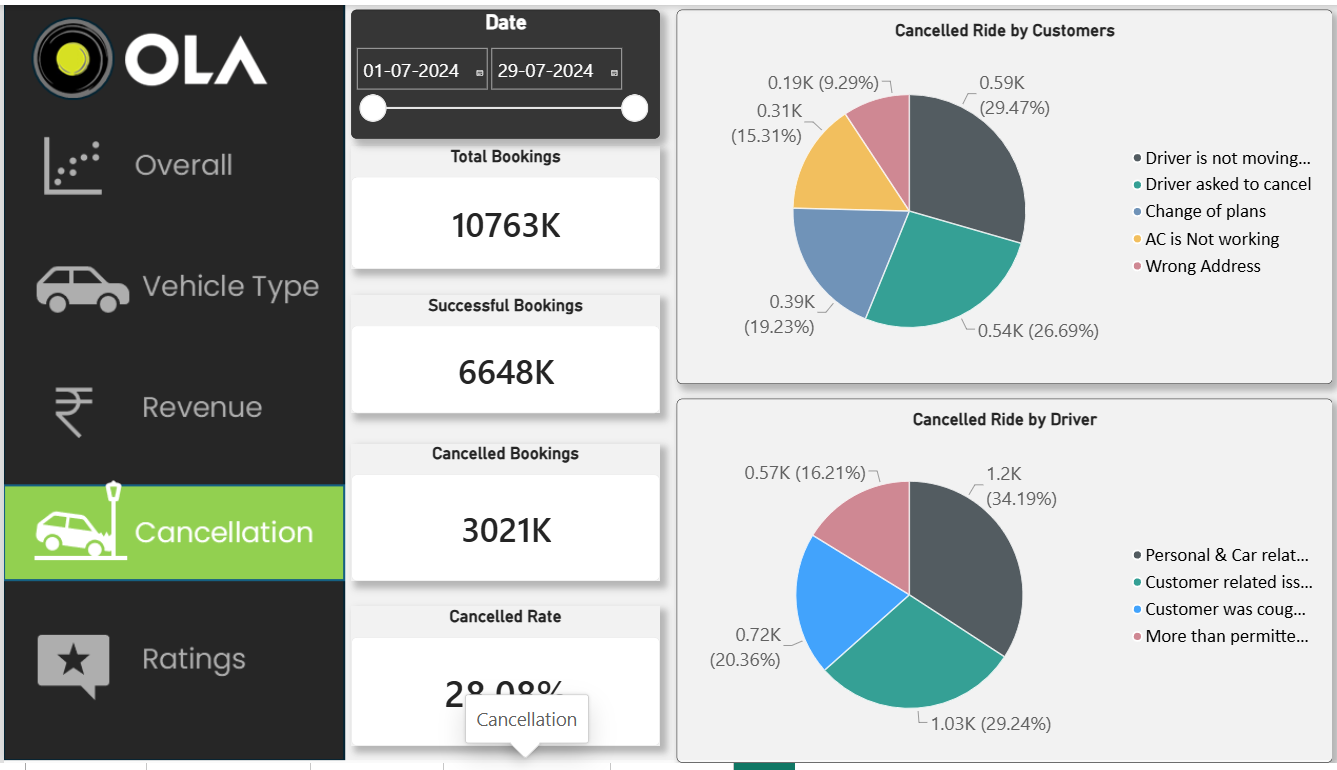

The page's visual inventory and layout, read from the dashboard file:
{"tool":"powerbi","page":{"name":"Cancellation","canvas":[1920,1080],"ordinal":3},"visuals":[{"type":"actionButton","box":[0,168.7,486,133.5],"z":0},{"type":"actionButton","box":[0,347.5,486,133.5],"z":1000},{"type":"actionButton","box":[10.1,516.3,486,133.5],"z":2000},{"type":"actionButton","box":[10.1,679.9,486,133.5],"z":3000},{"type":"pieChart","title":"Cancelled Ride by Customers","fields":{"Category":["bookings (2).Canceled_Rides_by_Customer"],"Y":["CountNonNull(bookings (2).Canceled_Rides_by_Customer)"]},"box":[958.8,6,934.7,533.7],"z":4000},{"type":"pieChart","title":"Cancelled Ride by Driver","fields":{"Category":["bookings (2).Canceled_Rides_by_Driver"],"Y":["CountNonNull(bookings (2).Canceled_Rides_by_Driver)"]},"box":[958.8,560.8,934.7,518.6],"z":5000},{"type":"slicer","title":"Date","fields":{"Values":["bookings (2).Date"]},"box":[494.5,6,440.2,183.9],"z":6000},{"type":"cardVisual","title":"Total Bookings","fields":{"Data":["Sum(bookings (2).Booking_Value)"]},"box":[494.5,202,440.2,174.9],"z":7000},{"type":"cardVisual","title":"Successful Bookings","fields":{"Data":["Sum(bookings (2).Booking_Value)"]},"box":[494.5,413.1,440.2,168.9],"z":8000},{"type":"cardVisual","title":"Cancelled Bookings","fields":{"Data":["Sum(bookings (2).Booking_Value)"]},"box":[494.5,624.2,440.2,196],"z":10000},{"type":"cardVisual","title":"Cancelled Rate","fields":{"Data":["bookings (2).CancelledPercentage"]},"box":[494.5,856.3,440.2,199],"z":11000},{"type":"actionButton","box":[0,856.3,486,133.5],"z":11001}]}

Visuals, with their boxes on the page's 1920x1080 design canvas (x1, y1, x2, y2). These are canvas units, not pixel positions in the 1337x770 screenshot, which may show the page scaled, cropped or inside an application window:
actionButton: locate(0, 169, 486, 302)
actionButton: locate(0, 348, 486, 481)
actionButton: locate(10, 516, 496, 650)
actionButton: locate(10, 680, 496, 813)
"Cancelled Ride by Customers" pieChart: locate(959, 6, 1894, 540)
"Cancelled Ride by Driver" pieChart: locate(959, 561, 1894, 1079)
"Date" slicer: locate(494, 6, 935, 190)
"Total Bookings" cardVisual: locate(494, 202, 935, 377)
"Successful Bookings" cardVisual: locate(494, 413, 935, 582)
"Cancelled Bookings" cardVisual: locate(494, 624, 935, 820)
"Cancelled Rate" cardVisual: locate(494, 856, 935, 1055)
actionButton: locate(0, 856, 486, 990)
